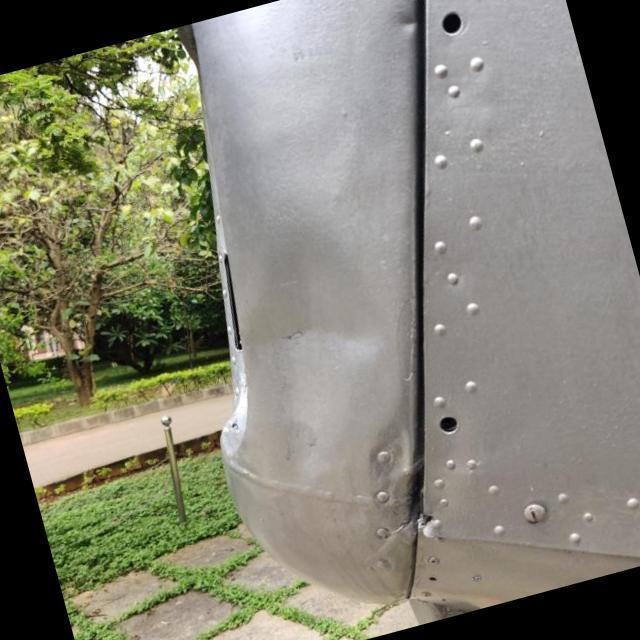Dent: (222, 214, 428, 480)
Fastener Damage: (422, 387, 486, 452), (421, 0, 490, 55)
